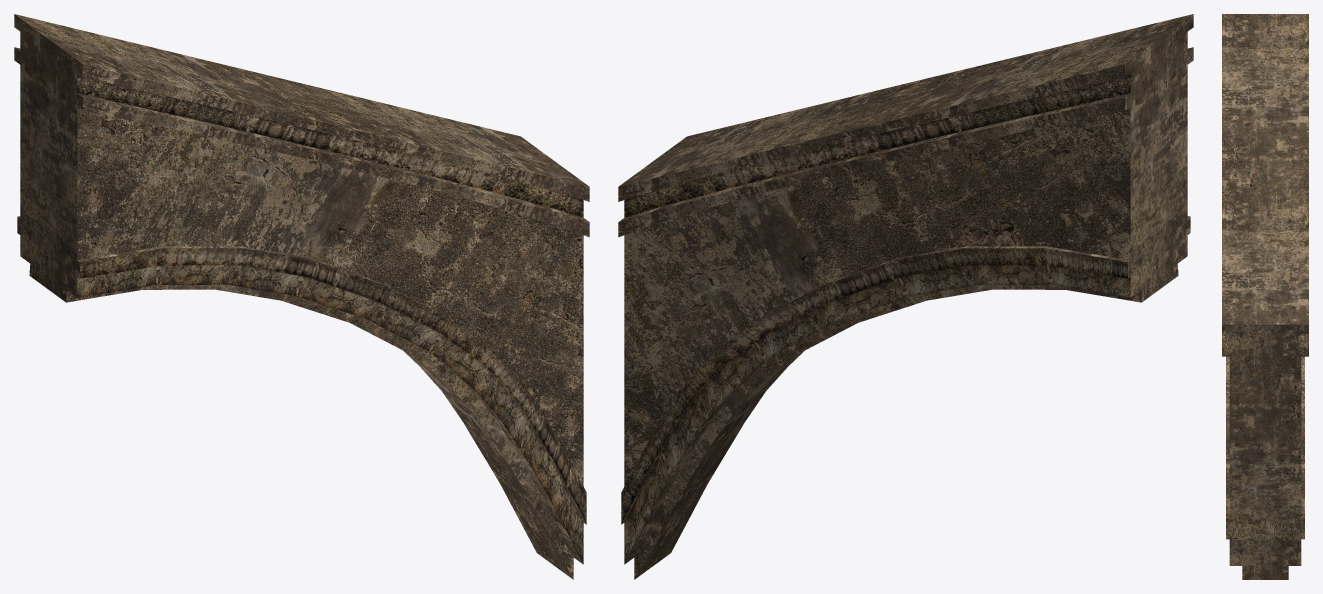
File: materials_5_wall_rectangle_1.fbx
3 renders of one model, left to right at view 1: azimuth 30°, elevation 25°; view 2: azimuth 150°, elevation 25°; view 3: azimuth 270°, elevation 25°, orthographic. The views are drawn at different scales.
Visible parts, largest first — view 1: materials_5_wall_rectangle_1; view 2: materials_5_wall_rectangle_1; view 3: materials_5_wall_rectangle_1.
Boxes of the visible parts, bbox=[...] form: materials_5_wall_rectangle_1: bbox=[14, 14, 589, 579]; materials_5_wall_rectangle_1: bbox=[618, 14, 1193, 579]; materials_5_wall_rectangle_1: bbox=[1222, 14, 1308, 579].
Size of the model in its own units: 439 by 538 by 103.
